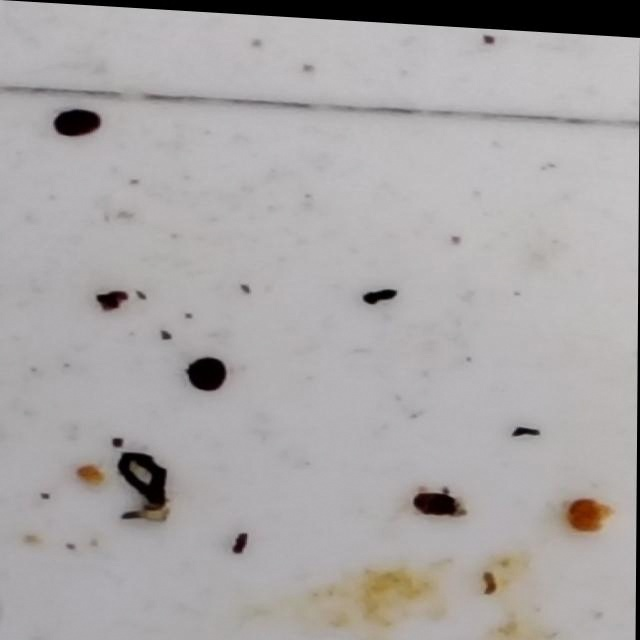varroa: (52, 106, 104, 140), (413, 483, 464, 515), (187, 354, 231, 391)
